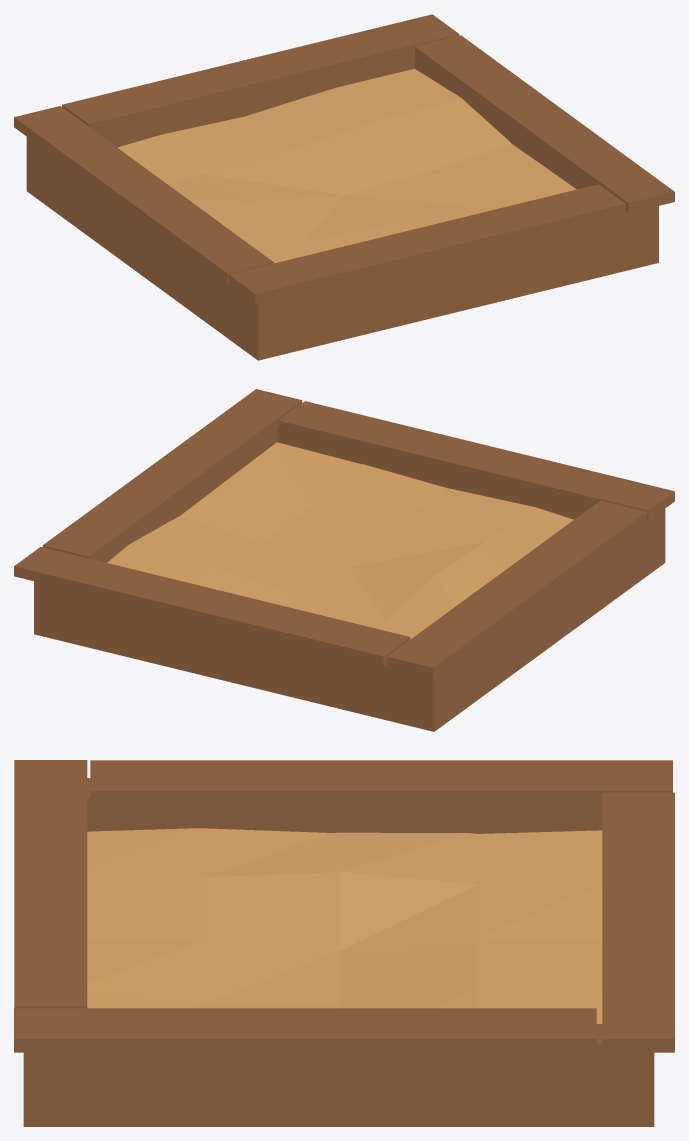
The model's file is sand-box.glb.
3 renders of one model, top to bottom at view 1: azimuth 30°, elevation 25°; view 2: azimuth 150°, elevation 25°; view 3: azimuth 270°, elevation 25°, orthographic. The views are drawn at different scales.
Parts seen in each view (by area): view 1: sand-box; view 2: sand-box; view 3: sand-box.
Boxes of the visible parts, x1,y1,x2,y2 form: sand-box: [14, 14, 674, 360]; sand-box: [14, 389, 674, 731]; sand-box: [14, 760, 674, 1126].
Size of the model in its own units: 2.17 by 0.35 by 2.18.
Materials: 1 (1 with a texture image).
